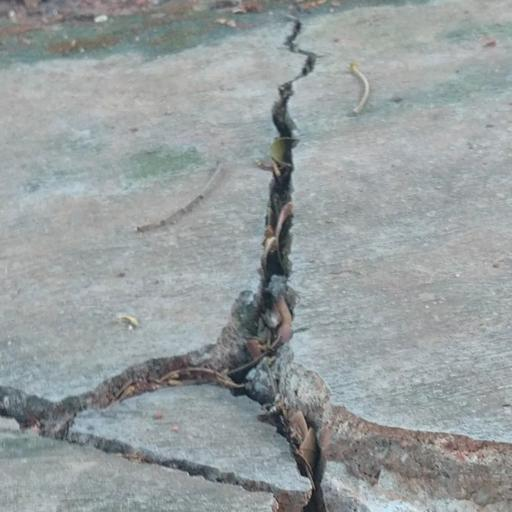major_crack: (2, 339, 512, 512), (231, 30, 356, 496)
